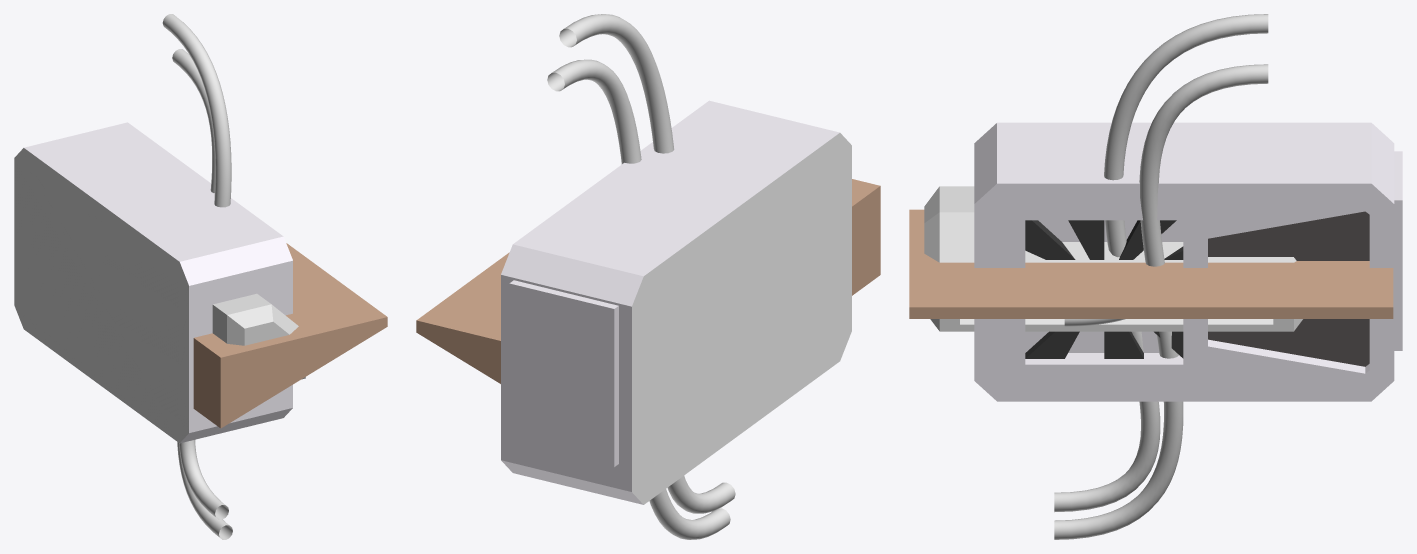
Rendered from Air Conditioner.fbx.
The picture shows the model from 3 angles, left to right: view 1: azimuth 30°, elevation 25°; view 2: azimuth 150°, elevation 25°; view 3: azimuth 270°, elevation 25°; orthographic projection. The views are drawn at different scales.
Visible parts, largest first — view 1: Air conditioner 1, stent, Curve.005, Air conditioner; view 2: Air conditioner 1, Curve.005, stent; view 3: Air conditioner 1, stent, Curve.005, Air conditioner.
Part boxes in pixels (box(x1,y1,x2,y2)): Air conditioner 1: box(14, 122, 292, 443); stent: box(193, 243, 387, 428); Curve.005: box(162, 14, 232, 539); Air conditioner: box(212, 293, 305, 379); Air conditioner 1: box(501, 100, 851, 504); Curve.005: box(547, 14, 735, 539); stent: box(416, 179, 880, 383); Air conditioner 1: box(974, 122, 1402, 401); stent: box(909, 209, 1393, 318); Curve.005: box(1054, 14, 1268, 539); Air conditioner: box(924, 186, 1302, 331).
Size of the model in its own units: 435 by 1096 by 902.
